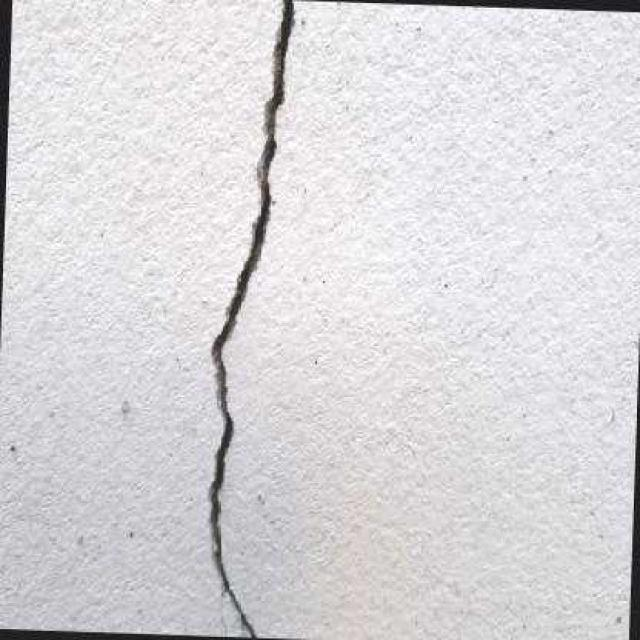D00: (205, 0, 294, 638)
